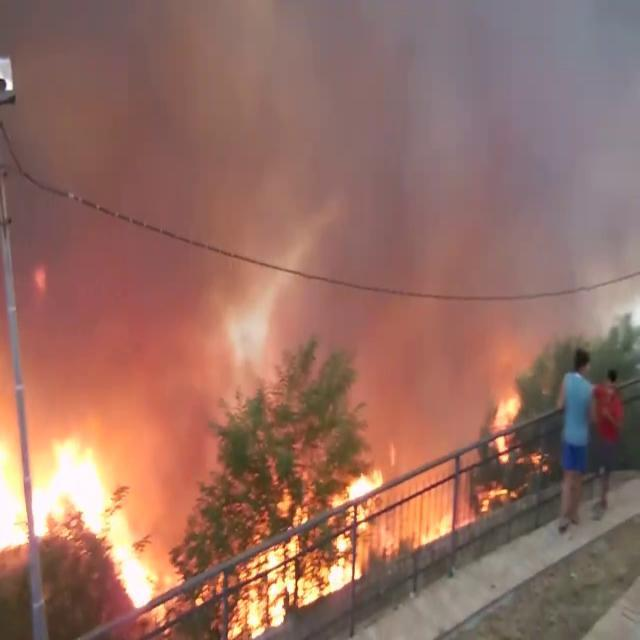Fire: (228, 448, 464, 625), (0, 409, 174, 620), (483, 387, 527, 461)
Smoke: (3, 1, 637, 383)
